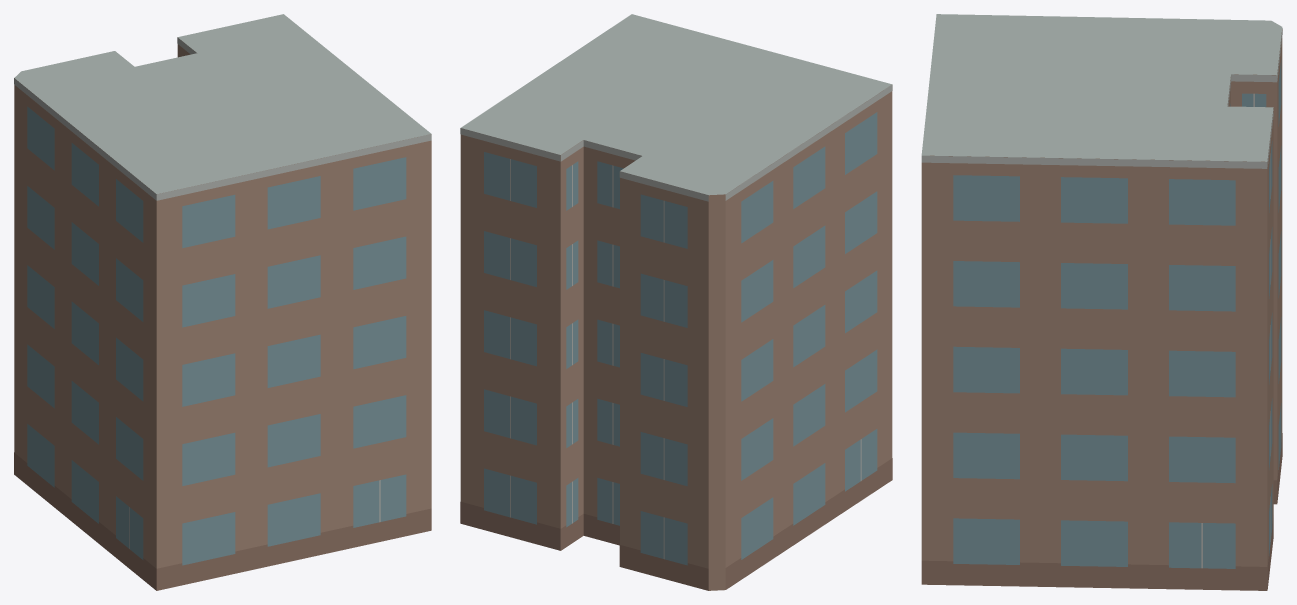
File: survey-upis-33030869.glb
3 views of the same model, side by side, from view 1: azimuth 30°, elevation 25°; view 2: azimuth 150°, elevation 25°; view 3: azimuth 270°, elevation 25° (orthographic). The views are drawn at different scales.
Visible parts, largest first — view 1: survey-upis-33030869.tmp; view 2: survey-upis-33030869.tmp; view 3: survey-upis-33030869.tmp.
Part boxes in pixels (bbox=[...]): survey-upis-33030869.tmp: bbox=[14, 14, 431, 590]; survey-upis-33030869.tmp: bbox=[460, 14, 892, 590]; survey-upis-33030869.tmp: bbox=[921, 14, 1282, 590].
Size of the model in its own units: 10.91 by 14.75 by 11.25.
